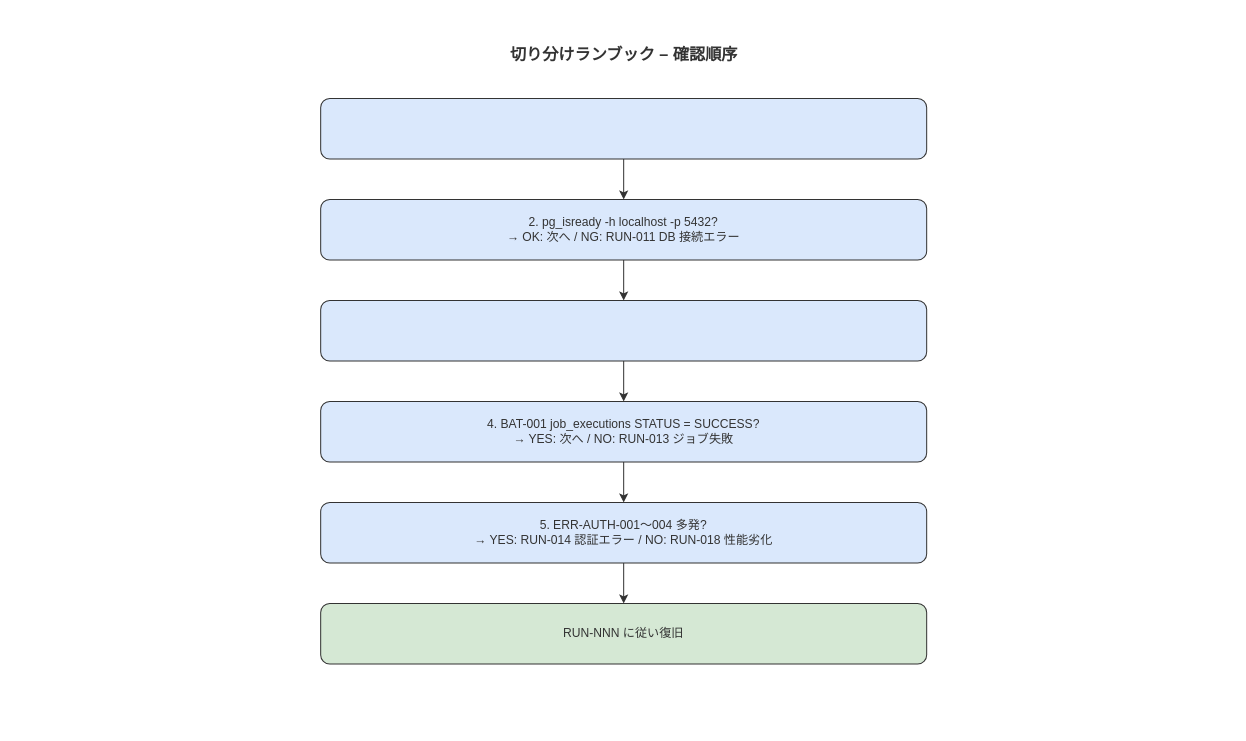
Image size: 1246x741. Some labels were removed from this diagram. The shapes that lost their labels are listed below. From the top down, each one's centre as x and y in pixels, then its label:
At point (623, 128): "1. curl http://localhost:8080/health → 200 OK? → YES: 次へ / NO: RUN-010 API 無応答".
At point (623, 330): "3. docker compose ps — 全コンテナ Up? → YES: 次へ / NO: RUN-020 コンテナ再起動".
